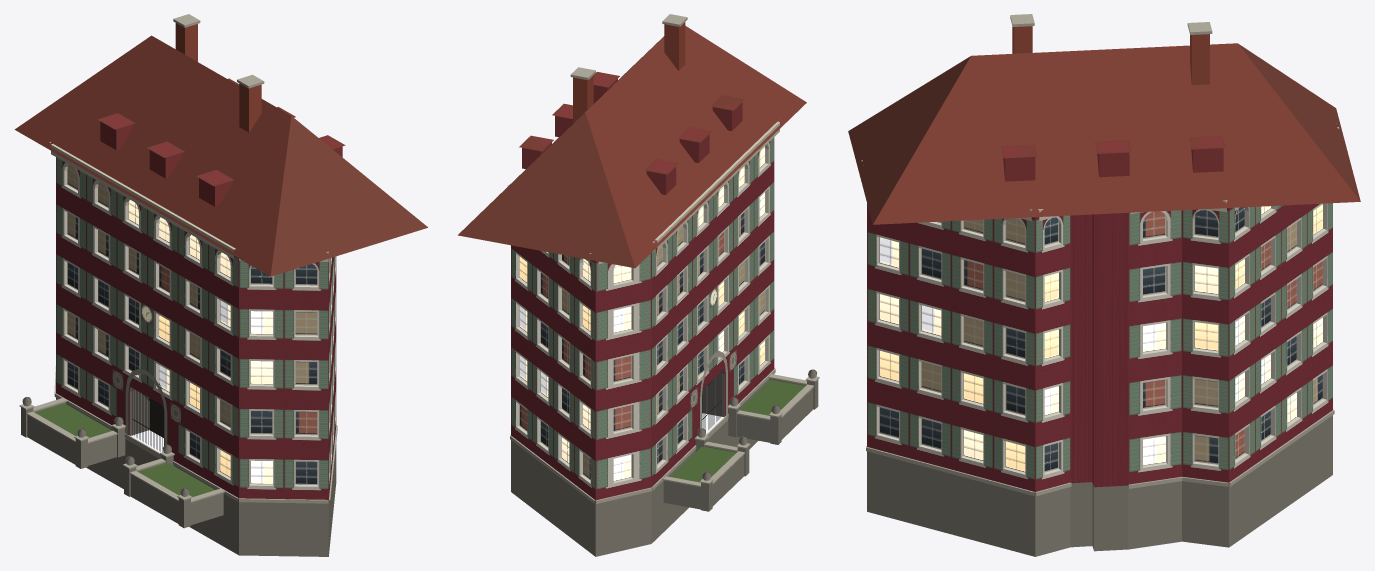
File: roentgen_randbau.glb
The picture shows the model from 3 angles, left to right: view 1: azimuth 30°, elevation 25°; view 2: azimuth 150°, elevation 25°; view 3: azimuth 270°, elevation 25°; orthographic projection. The views are drawn at different scales.
Parts seen in each view (by area): view 1: roentgen; view 2: roentgen; view 3: roentgen.
Boxes of the visible parts, x1,y1,x2,y2 form: roentgen: [14, 14, 427, 556]; roentgen: [458, 14, 819, 556]; roentgen: [848, 14, 1360, 556].
Size of the model in its own units: 15.94 by 26.65 by 25.42.
3 materials, 3 textured.
